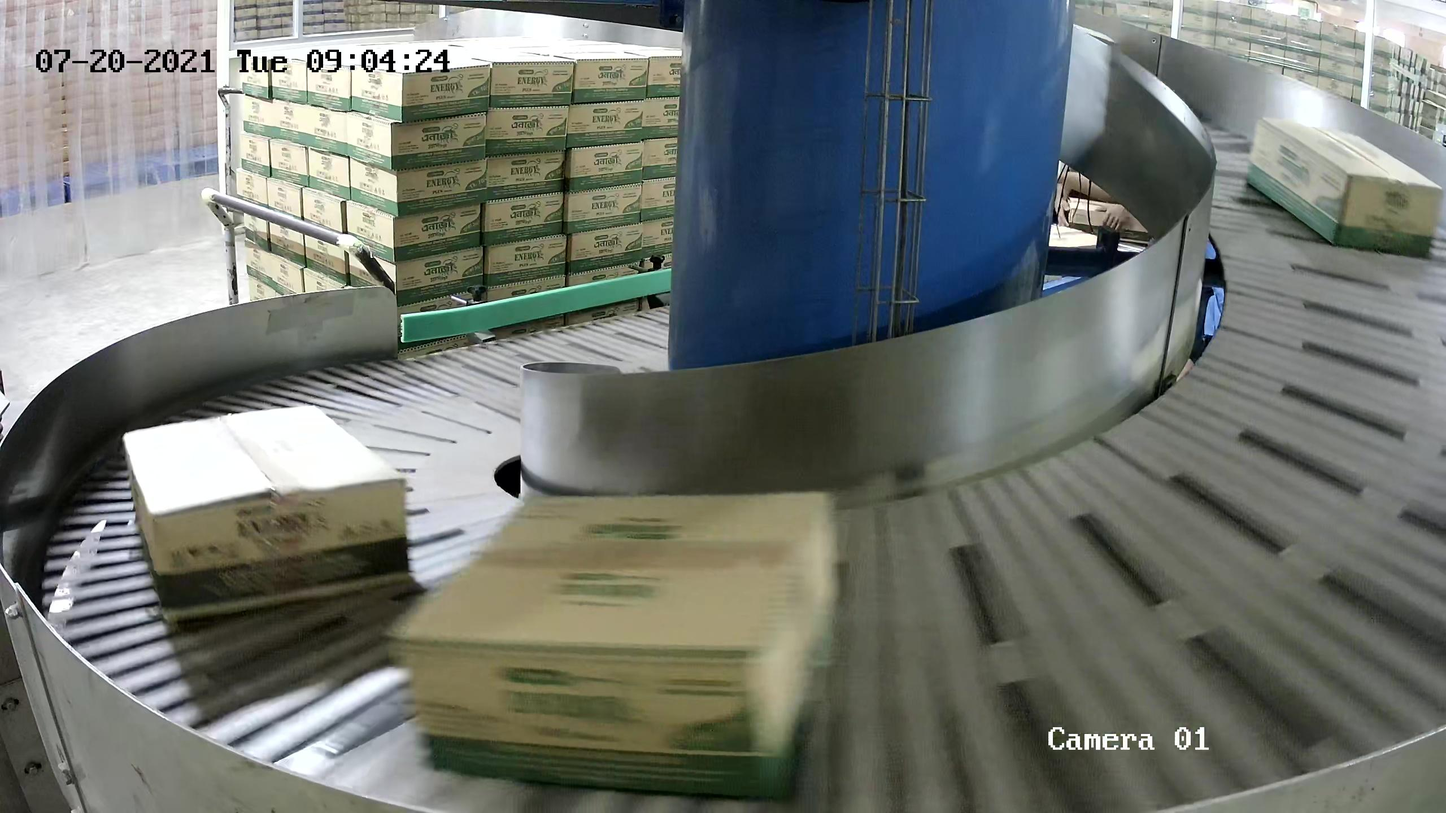Box: (390, 488, 851, 803), (122, 403, 412, 629), (1245, 118, 1446, 263)
